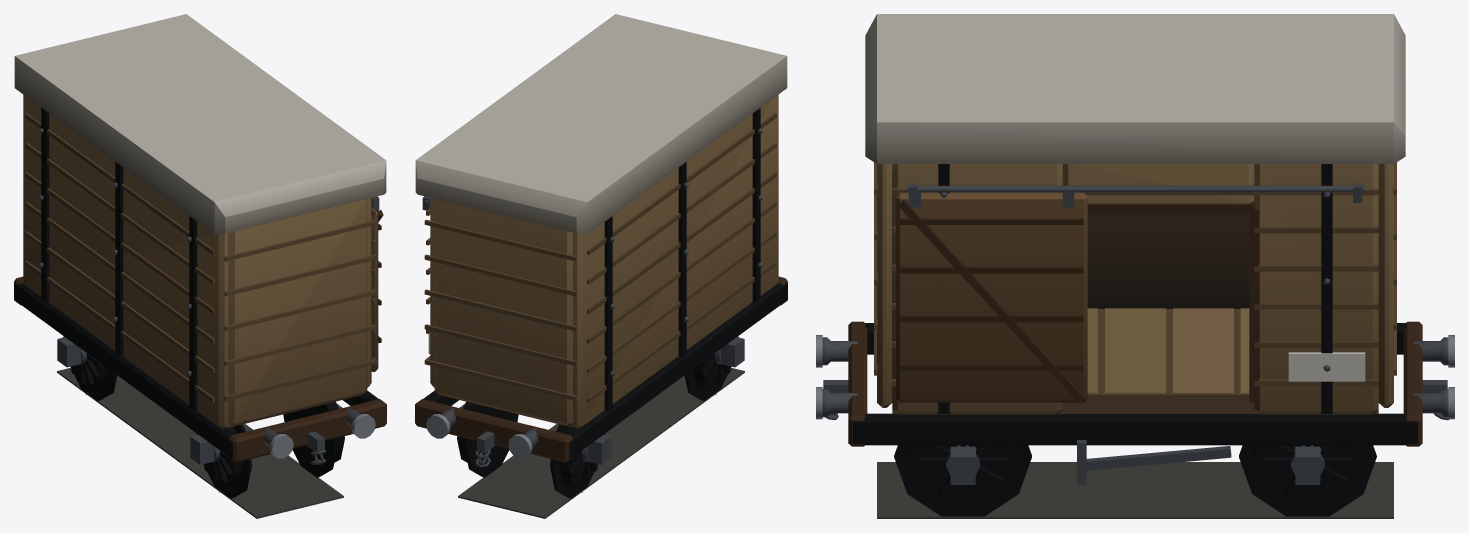
File: freight-van.glb
The picture shows the model from 3 angles, left to right: view 1: azimuth 30°, elevation 25°; view 2: azimuth 150°, elevation 25°; view 3: azimuth 270°, elevation 25°; orthographic projection. The views are drawn at different scales.
Visible parts, largest first — view 1: freight_van; view 2: freight_van; view 3: freight_van.
Part boxes in pixels (left/top/right/bottom): freight_van: left=14, top=14, right=386, bottom=518; freight_van: left=415, top=14, right=787, bottom=518; freight_van: left=816, top=14, right=1454, bottom=518.
Bounding box in the file's own units: 1.39 × 2.44 × 3.34.
